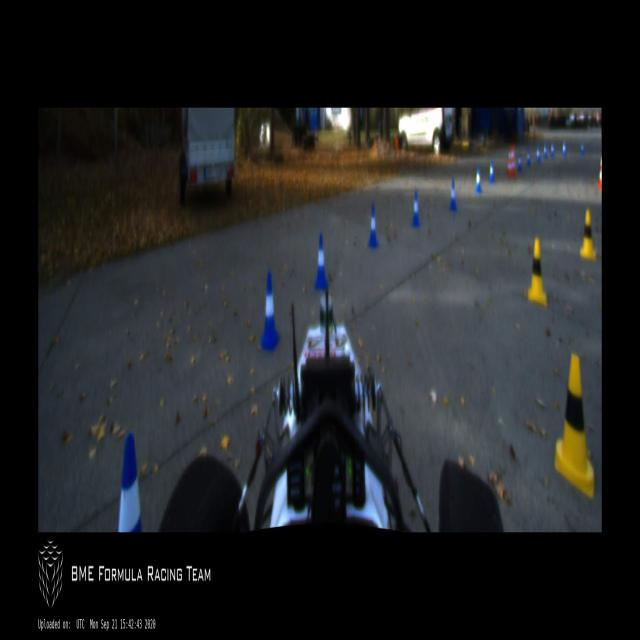blue_cone: (117, 432, 146, 532), (260, 272, 280, 348), (314, 235, 328, 288), (368, 204, 378, 248), (410, 192, 420, 226), (475, 165, 482, 192), (450, 179, 456, 209), (517, 152, 523, 174), (489, 160, 494, 182), (526, 146, 531, 165), (536, 145, 541, 163), (562, 141, 566, 155), (581, 141, 585, 155), (544, 142, 547, 156), (551, 142, 554, 154)
large_orange_cone: (506, 148, 511, 178), (511, 148, 516, 178), (598, 155, 602, 190)
yellow_cone: (554, 355, 593, 488), (527, 238, 546, 304), (580, 211, 595, 257)
